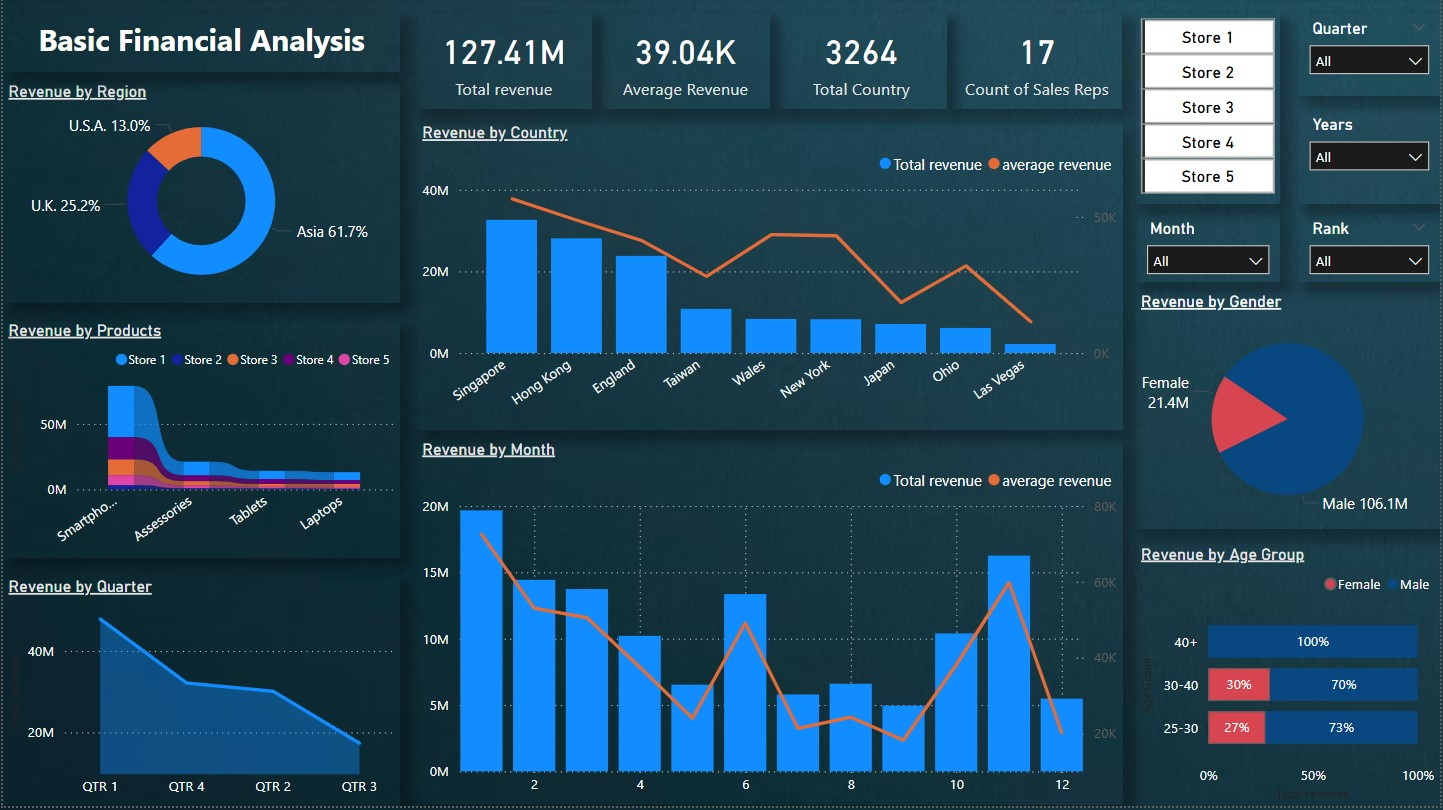

The page's visual inventory and layout, read from the dashboard file:
{"tool":"powerbi","page":{"name":"Page 1","canvas":[1280,720],"ordinal":0},"visuals":[{"type":"card","fields":{"Values":["Count(Table1.Sales Reps)"]},"box":[844.5,13.3,152,85.7],"z":0},{"type":"card","fields":{"Values":["Measure.Total revenue"]},"box":[368,13.3,155.6,85.7],"z":1000},{"type":"card","fields":{"Values":["Measure.average revenue"]},"box":[533.2,13.3,149.6,85.7],"z":2000},{"type":"card","fields":{"Values":["Measure.Total country"]},"box":[688.9,13.3,150.8,85.7],"z":3000},{"type":"donutChart","title":"Revenue by Region","fields":{"Y":["Measure.Total revenue"],"Category":["Table1.Region"]},"box":[0,74.8,353.5,196.6],"z":4000},{"type":"lineClusteredColumnComboChart","title":"Revenue by Country","fields":{"Category":["Table1.Country"],"Y":["Measure.Total revenue"],"Y2":["Measure.average revenue"]},"box":[368,111,628.6,273.9],"z":5000},{"type":"advancedSlicerVisual","fields":{"Values":["Table1.Rank"]},"box":[1008.6,13.3,129.1,170.1],"z":6000},{"type":"stackedAreaChart","title":"Revenue by Quarter","fields":{"Category":["Table1.Quarter"],"Y":["Measure.Total revenue"]},"box":[0,515.2,353.5,205.1],"z":7000},{"type":"ribbonChart","title":"Revenue by Products","fields":{"Y":["Measure.Total revenue"],"Series":["Table1.Rank"],"Category":["Table1.Products"]},"box":[0,287.1,353.5,211.1],"z":8000},{"type":"pieChart","title":"Revenue by Gender","fields":{"Category":["Table1.Gender"],"Y":["Measure.Total revenue"]},"box":[1008.6,261.8,271.4,211.1],"z":9000},{"type":"lineClusteredColumnComboChart","title":"Revenue by Month","fields":{"Category":["Table1.Month"],"Y":["Measure.Total revenue"],"Y2":["Measure.average revenue"]},"box":[368,393.3,628.6,325.7],"z":10000},{"type":"slicer","fields":{"Values":["Table1.Quarter"]},"box":[1153.4,13.3,126.7,73.6],"z":11000},{"type":"slicer","fields":{"Values":["Table1.Years"]},"box":[1153.4,98.9,126.7,84.5],"z":12000},{"type":"slicer","fields":{"Values":["Table1.Month"]},"box":[1008.6,191.8,129.1,61.5],"z":13000},{"type":"slicer","fields":{"Values":["Table1.Rank"]},"box":[1153.4,191.8,126.7,61.5],"z":14000},{"type":"textbox","box":[0,13.3,353.5,53.1],"z":15000},{"type":"hundredPercentStackedBarChart","title":"Revenue by Age Group ","fields":{"Category":["Table1.Age Group"],"Y":["Measure.Total revenue"],"Series":["Table1.Gender"]},"box":[1008.6,486.2,271.4,232.8],"z":16000}]}

Visuals, with their boxes in screenshot pixels (x1, y1, x2, y2), scaled from the page's 1280x720 canvas onto the 1443x810 screenshot:
card - Count(Table1.Sales Reps): (left=952, top=15, right=1123, bottom=111)
card - Measure.Total revenue: (left=415, top=15, right=590, bottom=111)
card - Measure.average revenue: (left=601, top=15, right=770, bottom=111)
card - Measure.Total country: (left=777, top=15, right=947, bottom=111)
"Revenue by Region" donutChart: (left=0, top=84, right=399, bottom=305)
"Revenue by Country" lineClusteredColumnComboChart: (left=415, top=125, right=1124, bottom=433)
advancedSlicerVisual - Table1.Rank: (left=1137, top=15, right=1283, bottom=206)
"Revenue by Quarter" stackedAreaChart: (left=0, top=580, right=399, bottom=809)
"Revenue by Products" ribbonChart: (left=0, top=323, right=399, bottom=560)
"Revenue by Gender" pieChart: (left=1137, top=295, right=1442, bottom=532)
"Revenue by Month" lineClusteredColumnComboChart: (left=415, top=442, right=1124, bottom=809)
slicer - Table1.Quarter: (left=1300, top=15, right=1442, bottom=98)
slicer - Table1.Years: (left=1300, top=111, right=1442, bottom=206)
slicer - Table1.Month: (left=1137, top=216, right=1283, bottom=285)
slicer - Table1.Rank: (left=1300, top=216, right=1442, bottom=285)
textbox: (left=0, top=15, right=399, bottom=75)
"Revenue by Age Group " hundredPercentStackedBarChart: (left=1137, top=547, right=1442, bottom=809)
